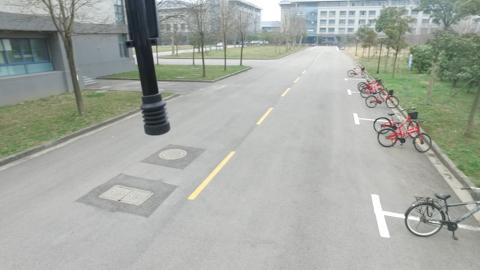bike: (401, 185, 474, 245), (371, 115, 440, 154), (365, 79, 397, 115)
